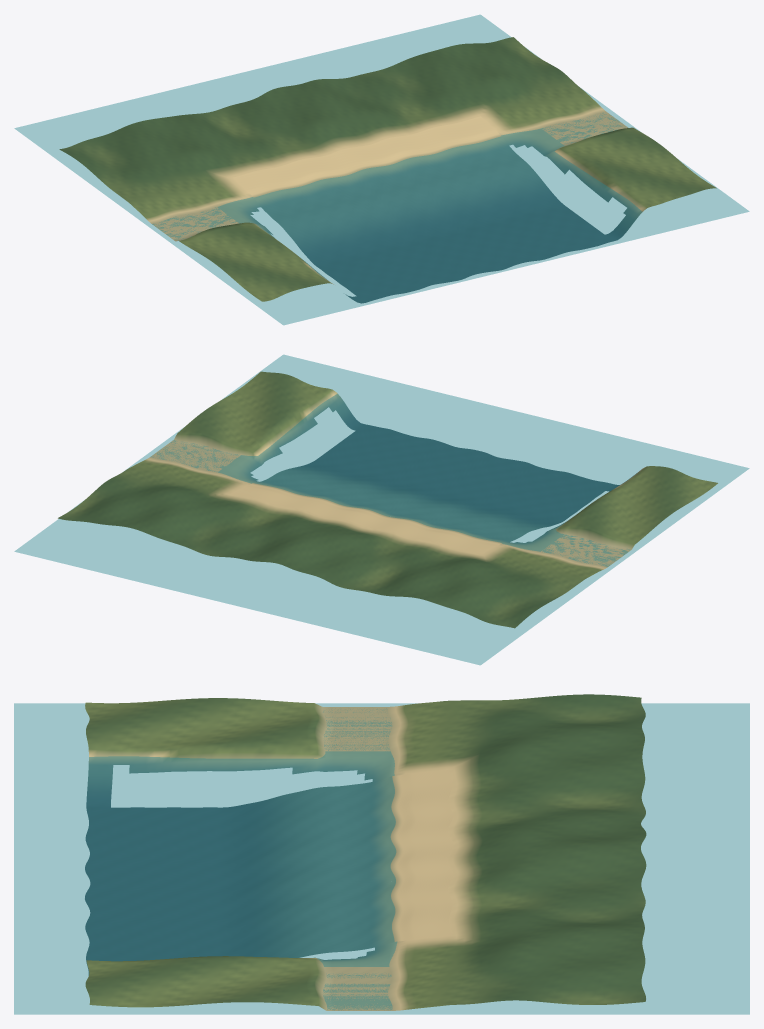
Rendered from coast.glb.
The picture shows the model from 3 angles, top to bottom: view 1: azimuth 30°, elevation 25°; view 2: azimuth 150°, elevation 25°; view 3: azimuth 270°, elevation 25°; orthographic projection. The views are drawn at different scales.
Parts seen in each view (by area): view 1: Water, CoastalHills, SeabedTile5, SeabedTile2, SeabedTile8, SeabedTile10, SeabedTile13, SeabedTile7, SeabedTile4, SeabedTile11, SeabedTile1, SeabedTile14 (+6 smaller); view 2: Water, CoastalHills, SeabedTile5, SeabedTile10, SeabedTile2, SeabedTile13, SeabedTile7, SeabedTile8, SeabedTile4, SeabedTile11, SeabedTile1, SeabedTile14 (+6 smaller); view 3: Water, CoastalHills, SeabedTile6, SeabedTile9, SeabedTile12, SeabedTile3, SeabedTile0, SeabedTile1, SeabedTile11, SeabedTile4, SeabedTile7, SeabedTile8 (+6 smaller).
Boxes of the visible parts, left/top/right/bottom form: Water: left=14, top=15, right=749, bottom=324; CoastalHills: left=59, top=37, right=716, bottom=303; SeabedTile5: left=333, top=178, right=457, bottom=281; SeabedTile2: left=286, top=189, right=410, bottom=293; SeabedTile8: left=380, top=166, right=503, bottom=270; SeabedTile10: left=410, top=158, right=534, bottom=262; SeabedTile13: left=457, top=147, right=580, bottom=251; SeabedTile7: left=363, top=169, right=487, bottom=273; SeabedTile4: left=317, top=180, right=440, bottom=285; SeabedTile11: left=427, top=155, right=550, bottom=259; SeabedTile1: left=271, top=192, right=393, bottom=296; SeabedTile14: left=474, top=143, right=596, bottom=247; Water: left=14, top=355, right=749, bottom=664; CoastalHills: left=58, top=371, right=717, bottom=628; SeabedTile5: left=412, top=462, right=533, bottom=524; SeabedTile10: left=334, top=444, right=455, bottom=505; SeabedTile2: left=459, top=474, right=580, bottom=535; SeabedTile13: left=287, top=432, right=408, bottom=494; SeabedTile7: left=381, top=455, right=501, bottom=517; SeabedTile8: left=366, top=451, right=487, bottom=512; SeabedTile4: left=427, top=467, right=549, bottom=528; SeabedTile11: left=319, top=440, right=441, bottom=501; SeabedTile1: left=473, top=478, right=596, bottom=539; SeabedTile14: left=272, top=428, right=394, bottom=489; Water: left=14, top=703, right=749, bottom=1014; CoastalHills: left=85, top=694, right=646, bottom=1010; SeabedTile6: left=89, top=840, right=390, bottom=880; SeabedTile9: left=89, top=871, right=390, bottom=911; SeabedTile12: left=90, top=902, right=390, bottom=942; SeabedTile3: left=89, top=809, right=389, bottom=848; SeabedTile0: left=90, top=778, right=389, bottom=817; SeabedTile1: left=92, top=788, right=389, bottom=828; SeabedTile11: left=89, top=892, right=387, bottom=932; SeabedTile4: left=93, top=819, right=390, bottom=859; SeabedTile7: left=92, top=850, right=391, bottom=890; SeabedTile8: left=89, top=861, right=387, bottom=900.
Size of the model in its own units: 1800 by 143 by 1800.
